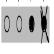correct: (29, 13, 35, 34)
not correct: (40, 4, 49, 46)
